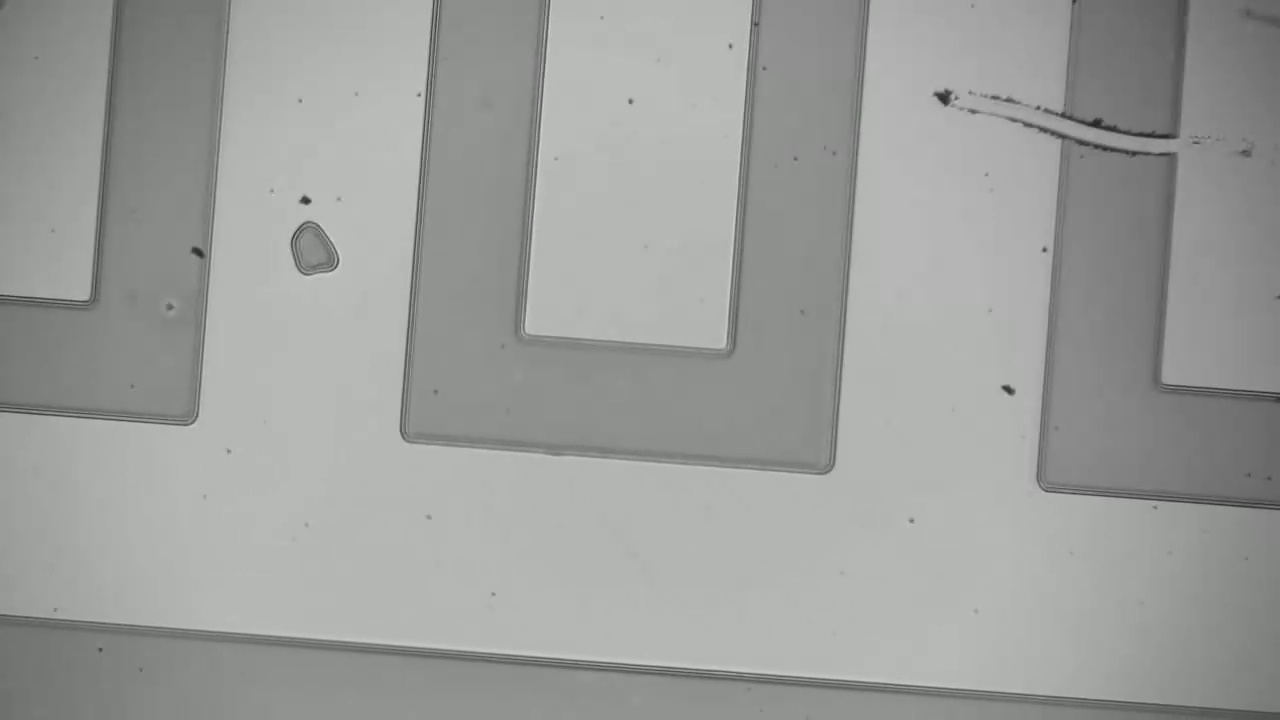Short_circuit: (1020, 90, 1216, 164)
